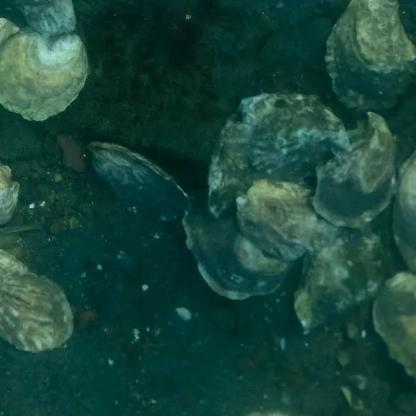Oyster- Indeterminate: (181, 191, 294, 302)
Oyster-Closed: (208, 93, 351, 215), (295, 206, 393, 329), (326, 0, 416, 110), (314, 111, 397, 227), (0, 26, 89, 119), (89, 141, 190, 222), (0, 248, 73, 352), (238, 179, 317, 260), (374, 270, 416, 379), (393, 150, 416, 275), (7, 0, 77, 35), (0, 161, 20, 226), (0, 18, 20, 49)
